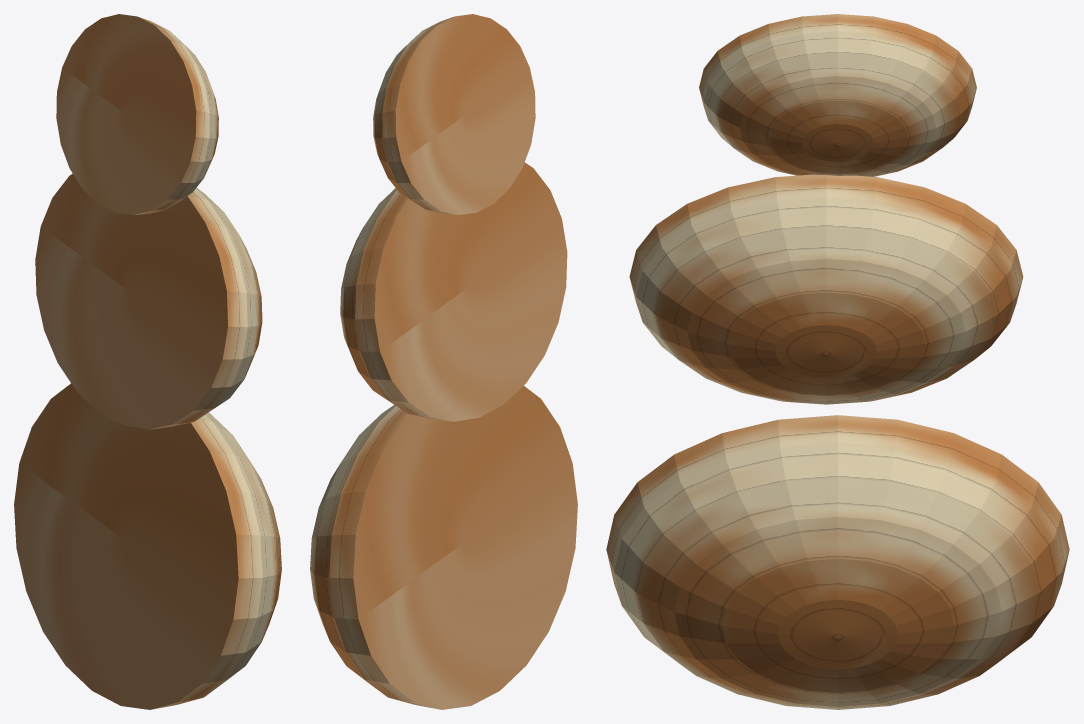
The model's file is bracket_fungus_v1.fbx.
3 views of the same model, side by side, from view 1: azimuth 30°, elevation 25°; view 2: azimuth 150°, elevation 25°; view 3: azimuth 270°, elevation 25° (orthographic). The views are drawn at different scales.
Parts seen in each view (by area): view 1: bracket_fungus_v1; view 2: bracket_fungus_v1; view 3: bracket_fungus_v1.
Part boxes in pixels (<box>): bracket_fungus_v1: <box>14,14,281,709</box>; bracket_fungus_v1: <box>310,14,577,709</box>; bracket_fungus_v1: <box>606,14,1069,709</box>.
Size of the model in its own units: 7.95 by 33.63 by 20.
1 material, 1 textured.
